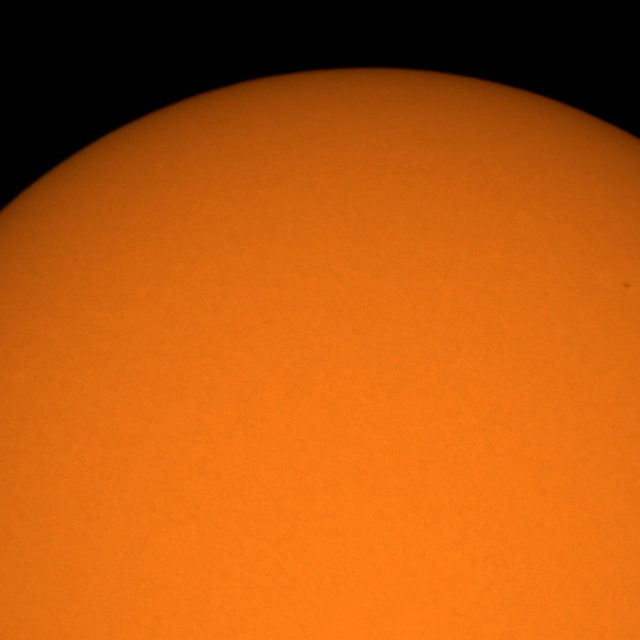sunspot: (622, 281, 632, 290)
